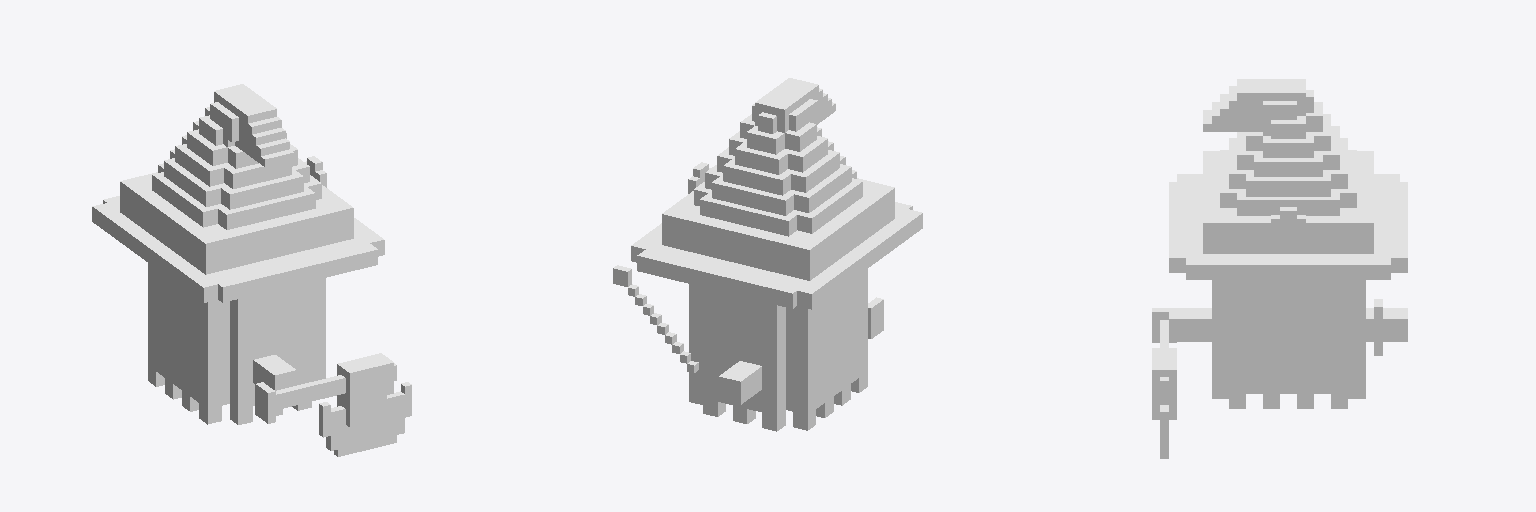
File: Gotchi1.vox.obj
3 views of the same model, side by side, from view 1: azimuth 30°, elevation 25°; view 2: azimuth 150°, elevation 25°; view 3: azimuth 270°, elevation 25° (orthographic).
Parts seen in each view (by area): view 1: object 1; view 2: object 1; view 3: object 1.
Boxes of the visible parts, <box> form: object 1: <box>92,84,411,456</box>; object 1: <box>613,78,922,431</box>; object 1: <box>1152,79,1407,458</box>.
Size of the model in its own units: 2.8 by 4.2 by 3.